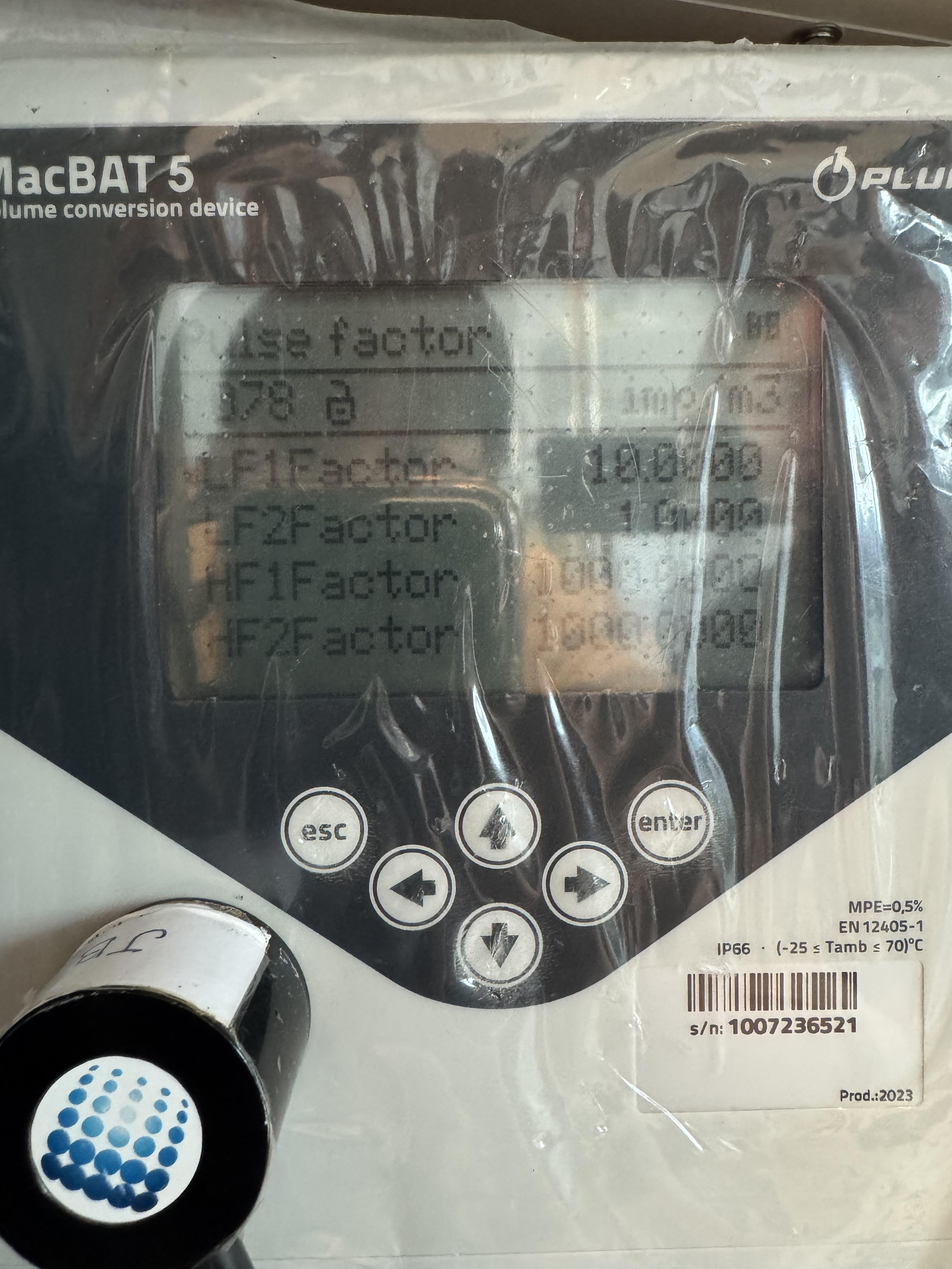digital_screen: (159, 282, 821, 694)
